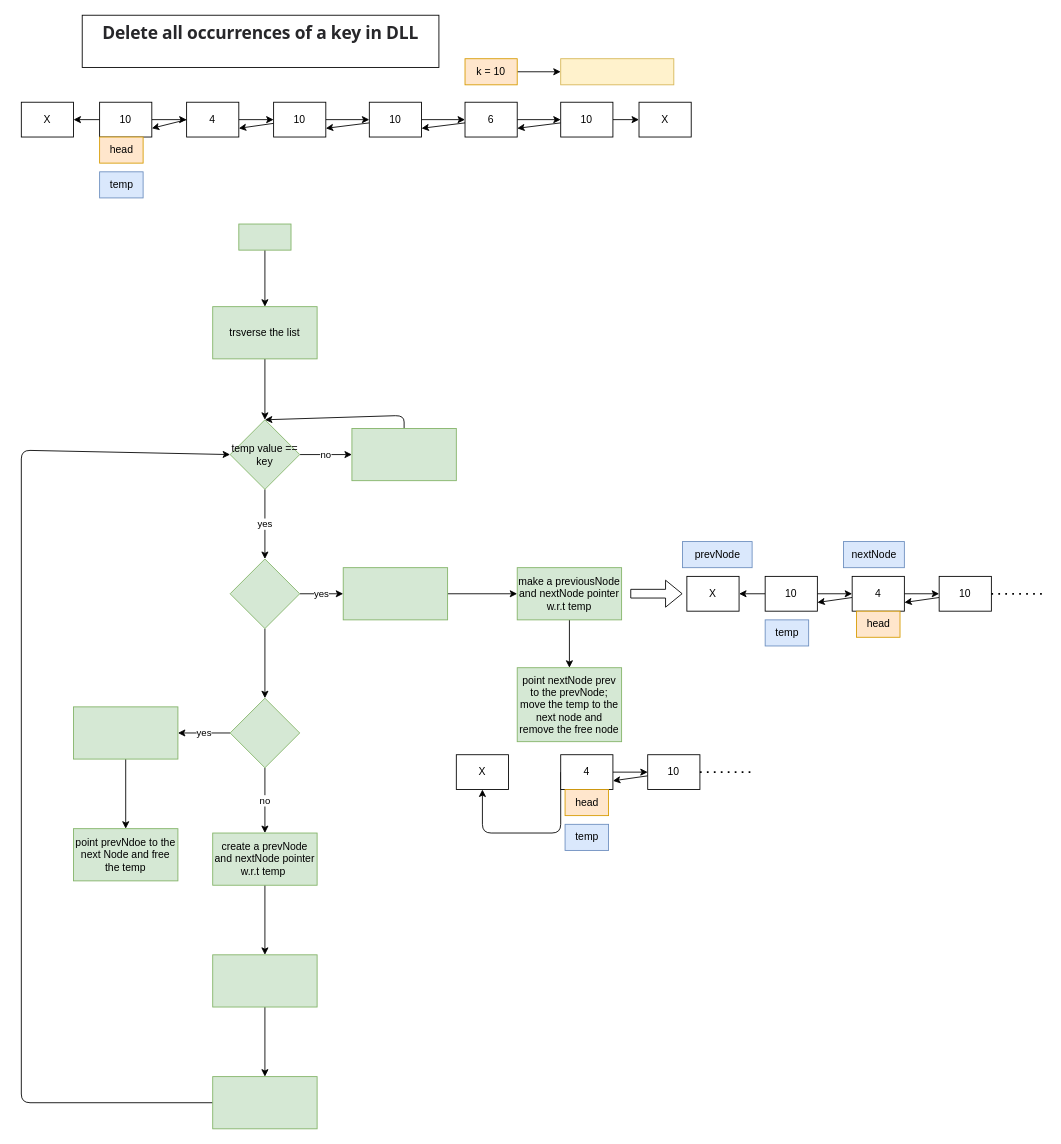
Image size: 1061x1144. Some labels were removed from this diagram. Here are the shapes that lost their labels. From the top down, the centre of each, then its label:
(x=617, y=71): delete all nodes that kave value 10
(x=264, y=236): strart
(x=403, y=454): move temp to next node
(x=264, y=593): temp == head
(x=395, y=593): move head to next node
(x=125, y=732): create the prevNode and the noextNode w.r.t temp
(x=264, y=732): temp is tail?
(x=264, y=980): prevNode point to nextNode; nextNode points to prevNode
(x=264, y=1102): clean the temp node and point temp to the nextNode
